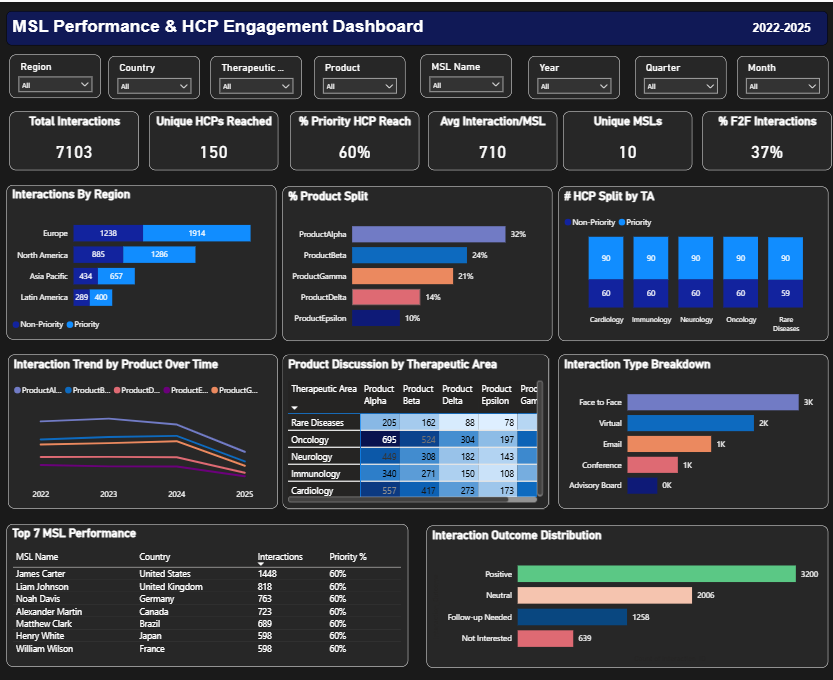

Layout of this report page (visuals, bound fields, positions):
{"tool":"powerbi","page":{"name":"Page 1","canvas":[1280,1040],"ordinal":0},"visuals":[{"type":"textbox","box":[11.1,14.3,1258.2,52.5],"z":0},{"type":"card","title":"Total Interactions","fields":{"Values":["Count(MSL_Interactions.Interaction_ID)"]},"box":[15.6,167.5,198,90],"z":1000},{"type":"card","title":"% F2F Interactions","fields":{"Values":["MSL_Interactions.F2F %"]},"box":[1076.5,167.5,198,90],"z":2000},{"type":"card","title":"Unique HCPs Reached","fields":{"Values":["Count(MSL_Interactions.HCP_ID)"]},"box":[230.3,167.5,198,90],"z":3000},{"type":"card","title":"% Priority HCP Reach","fields":{"Values":["MSL_Interactions.PercentPriorityHCPReached"]},"box":[446.6,167.5,198,90],"z":4000},{"type":"card","title":"Avg Interaction/MSL","fields":{"Values":["MSL_Interactions.AvgIntPerMSL"]},"box":[656.6,167.5,198,90],"z":5000},{"type":"card","title":"Unique MSLs","fields":{"Values":["Count(MSL_Interactions.MSL_ID)"]},"box":[864.9,167.5,198,90],"z":6000},{"type":"barChart","title":"Interactions By Region","fields":{"Category":["MSL_Interactions.Region"],"Y":["Count(MSL_Interactions.Interaction_ID)"],"Series":["MSL_Interactions.HCP_Priority"]},"box":[12.5,281.3,413.1,236.4],"z":7000},{"type":"slicer","fields":{"Values":["MSL_Interactions.Region"]},"box":[15,80,140,66.7],"z":8000},{"type":"slicer","fields":{"Values":["MSL_Interactions.Therapeutic_Area"]},"box":[323.3,81.7,140,66],"z":9000},{"type":"slicer","fields":{"Values":["MSL_Interactions.Product"]},"box":[483.3,81.7,140,66],"z":10000},{"type":"slicer","fields":{"Values":["MSL_Interactions.MSL Name"]},"box":[645,80,140,66],"z":11000},{"type":"slicer","fields":{"Values":["MSL_Interactions.Country"]},"box":[168.6,81.8,140,66],"z":12000},{"type":"barChart","title":"% Product Split","fields":{"Y":["CountNonNull(MSL_Interactions.Interaction_ID)"],"Category":["MSL_Interactions.Product"]},"box":[435.2,282.8,413.1,236.4],"z":13000},{"type":"columnChart","title":"# HCP Split by TA","fields":{"Category":["MSL_Interactions.Therapeutic Area"],"Y":["Count(MSL_Interactions.HCP_ID)"],"Series":["MSL_Interactions.HCP_Priority"]},"box":[857.2,282.8,413.1,236.4],"z":14000},{"type":"lineChart","title":"Interaction Trend by Product Over Time ","fields":{"Category":["MSL_Interactions.Year"],"Y":["Count(MSL_Interactions.Interaction_ID)"],"Series":["MSL_Interactions.Product"]},"box":[13.3,540.8,413.6,235.9],"z":15000},{"type":"barChart","title":"Interaction Type Breakdown","fields":{"Category":["MSL_Interactions.Interaction_Type"],"Y":["Count(MSL_Interactions.Interaction_ID)"]},"box":[856.3,540.8,413.6,235.9],"z":16000},{"type":"pivotTable","title":"Product Discussion by Therapeutic Area","fields":{"Rows":["MSL_Interactions.Therapeutic Area"],"Columns":["MSL_Interactions.Product"],"Values":["Count(MSL_Interactions.Interaction_ID)"]},"box":[434.8,540.8,408.3,235.9],"z":17000},{"type":"slicer","fields":{"Values":["MSL_Interactions.Year"]},"box":[811.7,81.7,140,66],"z":19000},{"type":"slicer","fields":{"Values":["MSL_Interactions.Quarter"]},"box":[975,81.7,140,66],"z":20000},{"type":"slicer","fields":{"Values":["MSL_Interactions.Month"]},"box":[1130,81.7,140,66],"z":21000},{"type":"tableEx","title":"Top 7 MSL Performance","fields":{"Values":["MSL_Interactions.MSL Name","MSL_Interactions.Country","MSL_Interactions.Interaction_ID","MSL_Interactions.PercentPriorityHCPReached"]},"box":[12.2,799.5,615,218.7],"z":22000},{"type":"clusteredBarChart","title":"Interaction Outcome Distribution","fields":{"Category":["MSL_Interactions.Interaction_Outcome"],"Y":["Count(MSL_Interactions.Interaction_ID)"]},"box":[654.8,801.8,615,218.3],"z":23000}]}

Visuals, with their boxes in screenshot pixels (x1, y1, x2, y2), scaled from the page's 1280x1040 canvas onto the 833x680 screenshot:
textbox: rect(7, 9, 826, 44)
"Total Interactions" card: rect(10, 110, 139, 168)
"% F2F Interactions" card: rect(701, 110, 829, 168)
"Unique HCPs Reached" card: rect(150, 110, 279, 168)
"% Priority HCP Reach" card: rect(291, 110, 419, 168)
"Avg Interaction/MSL" card: rect(427, 110, 556, 168)
"Unique MSLs" card: rect(563, 110, 692, 168)
"Interactions By Region" barChart: rect(8, 184, 277, 338)
slicer - MSL_Interactions.Region: rect(10, 52, 101, 96)
slicer - MSL_Interactions.Therapeutic_Area: rect(210, 53, 302, 97)
slicer - MSL_Interactions.Product: rect(315, 53, 406, 97)
slicer - MSL_Interactions.MSL Name: rect(420, 52, 511, 95)
slicer - MSL_Interactions.Country: rect(110, 53, 201, 97)
"% Product Split" barChart: rect(283, 185, 552, 339)
"# HCP Split by TA" columnChart: rect(558, 185, 827, 339)
"Interaction Trend by Product Over Time " lineChart: rect(9, 354, 278, 508)
"Interaction Type Breakdown" barChart: rect(557, 354, 826, 508)
"Product Discussion by Therapeutic Area" pivotTable: rect(283, 354, 549, 508)
slicer - MSL_Interactions.Year: rect(528, 53, 619, 97)
slicer - MSL_Interactions.Quarter: rect(635, 53, 726, 97)
slicer - MSL_Interactions.Month: rect(735, 53, 826, 97)
"Top 7 MSL Performance" tableEx: rect(8, 523, 408, 666)
"Interaction Outcome Distribution" clusteredBarChart: rect(426, 524, 826, 667)
